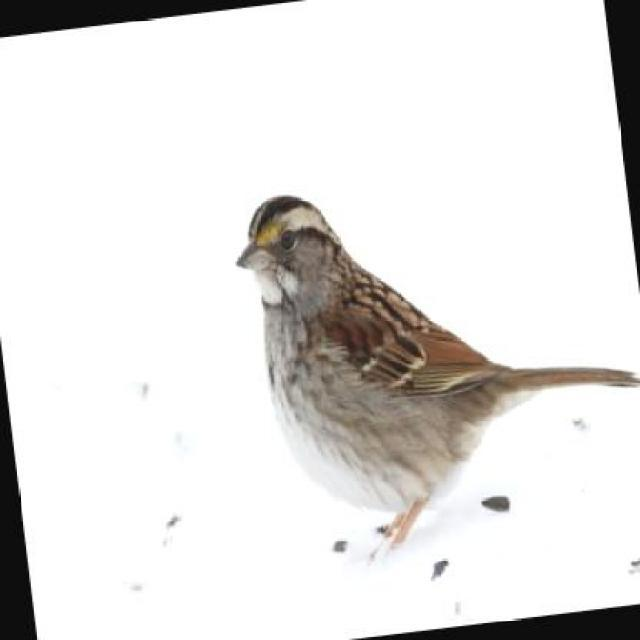Bird: (227, 176, 639, 556)
